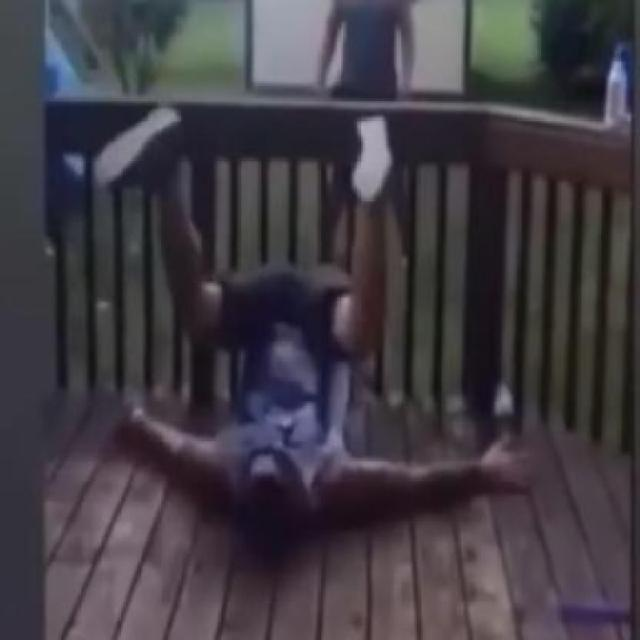fall: (94, 101, 537, 554)
